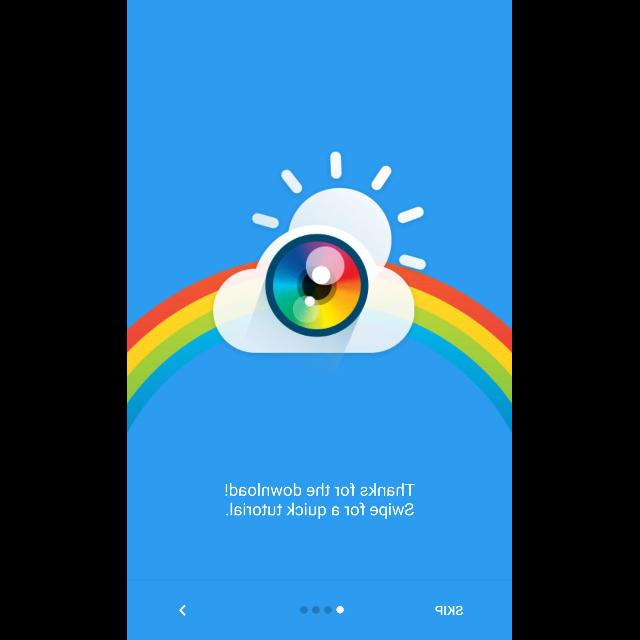icon: (179, 604, 187, 616)
image: (128, 151, 512, 433)
pageindicator: (300, 606, 346, 614)
text: (226, 482, 416, 520), (436, 606, 464, 616)
